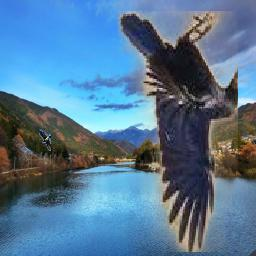Crow: (118, 12, 238, 253)
Swallow: (39, 129, 51, 151)
